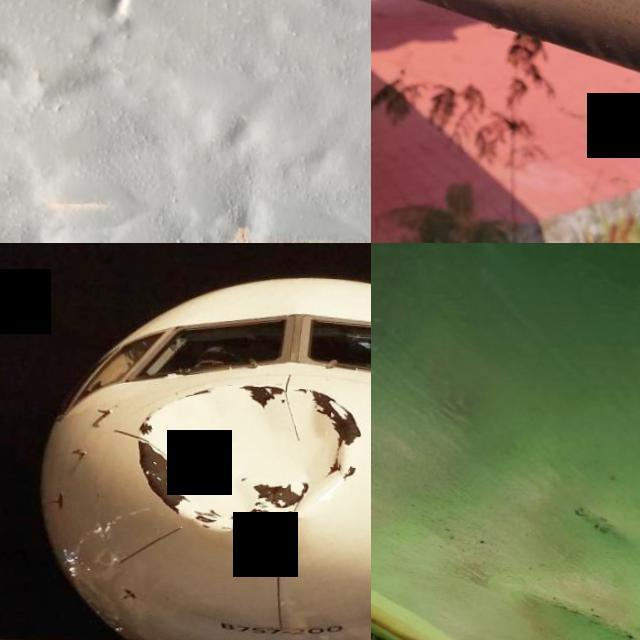Crack: (34, 202, 371, 243)
Dent: (140, 384, 367, 527), (494, 545, 640, 640), (550, 462, 640, 568)
